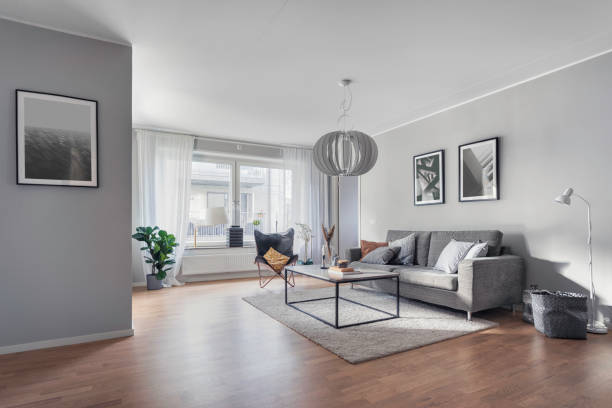chair: (252, 227, 300, 290)
floor lamp: (551, 184, 607, 335)
large plant: (132, 223, 179, 290)
sofa: (345, 225, 526, 321)
table: (282, 260, 402, 331)
wall art: (12, 87, 101, 189), (454, 135, 501, 203), (409, 147, 446, 207)
